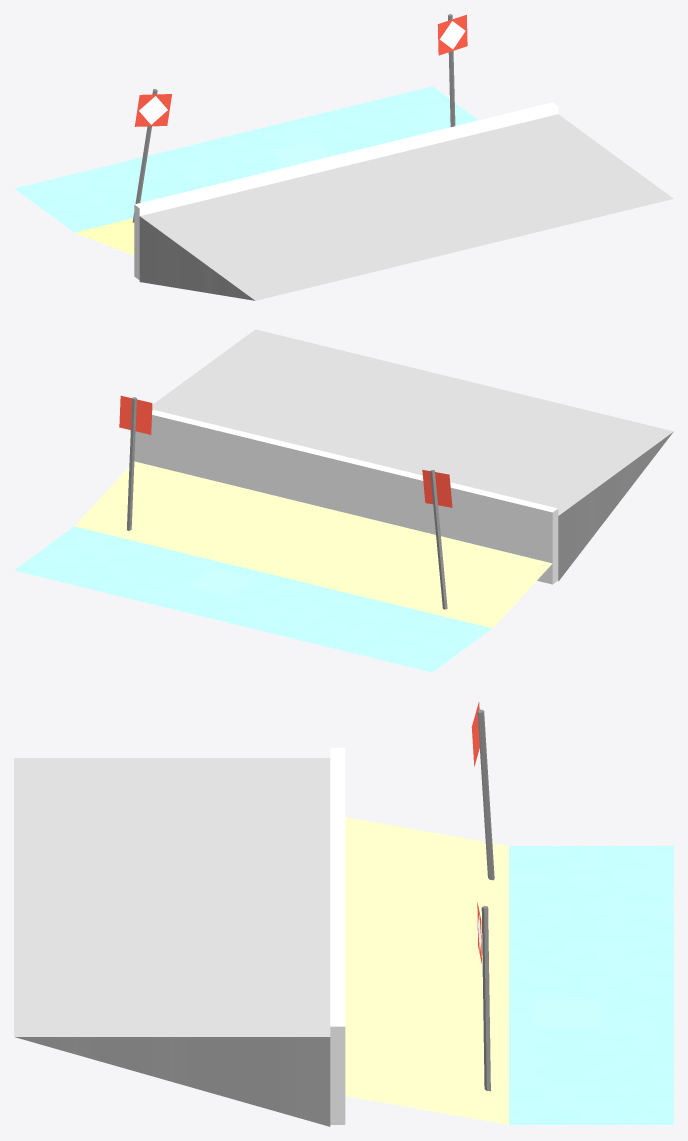
Rendered from beach_tile_1x1_5.glb.
3 views of the same model, one above another, from view 1: azimuth 30°, elevation 25°; view 2: azimuth 150°, elevation 25°; view 3: azimuth 270°, elevation 25° (orthographic). The views are drawn at different scales.
Parts seen in each view (by area): view 1: beach_tile_1x1_5(Clone); view 2: beach_tile_1x1_5(Clone); view 3: beach_tile_1x1_5(Clone).
Part boxes in pixels (x1,y1,x2,y2): beach_tile_1x1_5(Clone): (14,14,673,300); beach_tile_1x1_5(Clone): (14,329,673,672); beach_tile_1x1_5(Clone): (14,702,673,1126).
Size of the model in its own units: 8 by 2.48 by 8.
1 material, 1 textured.
